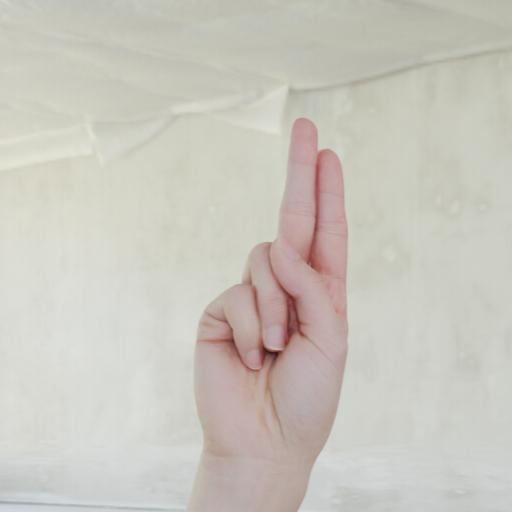U: (186, 115, 362, 477)
